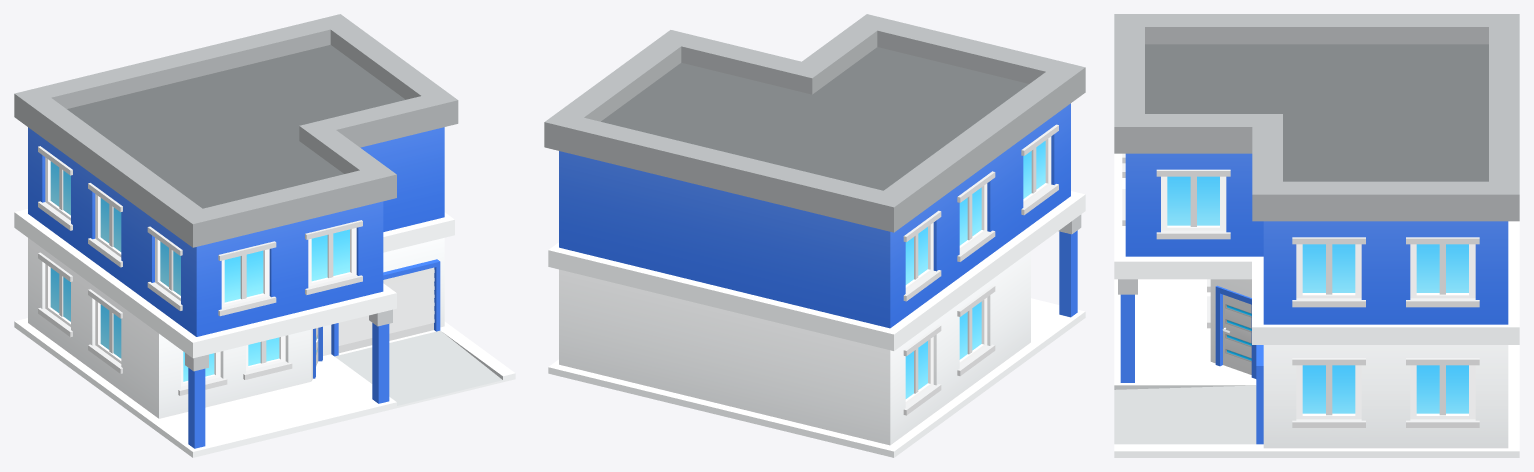
File: Building_Institution_10.glb
The picture shows the model from 3 angles, left to right: view 1: azimuth 30°, elevation 25°; view 2: azimuth 150°, elevation 25°; view 3: azimuth 270°, elevation 25°; orthographic projection. The views are drawn at different scales.
Visible parts, largest first — view 1: Building_Institution_10; view 2: Building_Institution_10; view 3: Building_Institution_10.
Boxes of the visible parts, box(x1,y1,x2,y2) form: Building_Institution_10: box(14, 14, 515, 457); Building_Institution_10: box(544, 14, 1085, 457); Building_Institution_10: box(1114, 14, 1519, 457).
Size of the model in its own units: 11.43 by 7.83 by 10.84.
Materials: 1 (1 with a texture image).
